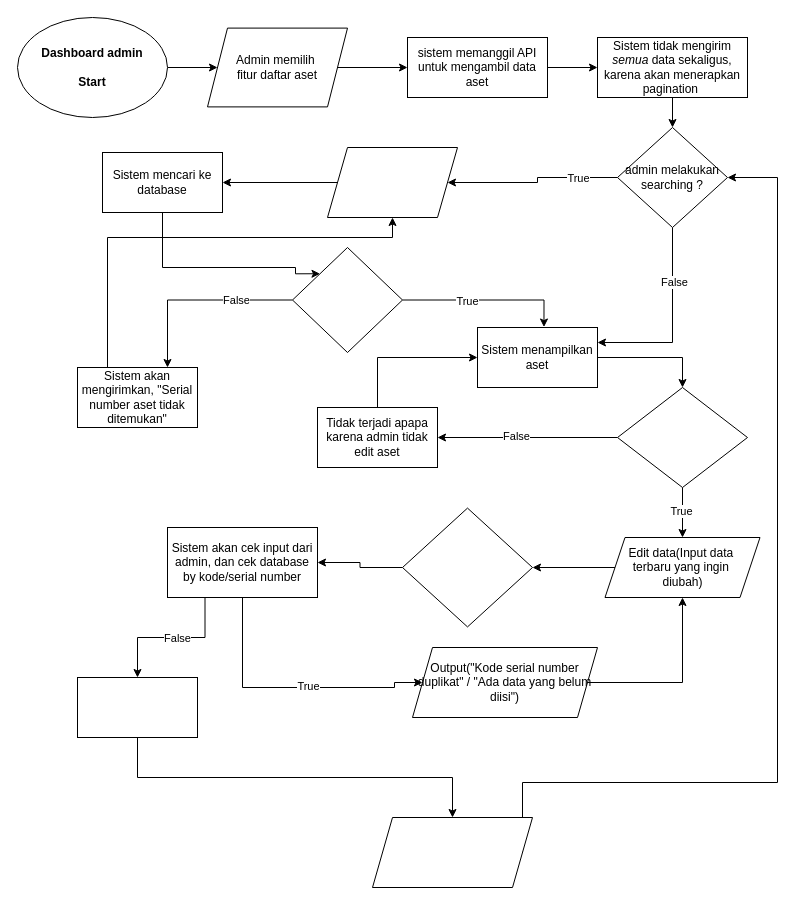
Image size: 803x905. Some labels were removed from this diagram. The shapes that lost their labels are listed below. From the top down, each one's centre as x and y in pixels, then its label:
At (392,182): "Admin Input serial number aset".
At (347,299): "Apakah serial number aset ditemukan ?".
At (682,437): "Apakah admin ingin edit data aset ?".
At (467,567): "Apakah ada kolom kosong/duplicate?".
At (137,707): "Sistem akan menyimpan ke database".
At (452,852): "Output: Data dari aset berhasil diperbarui".
